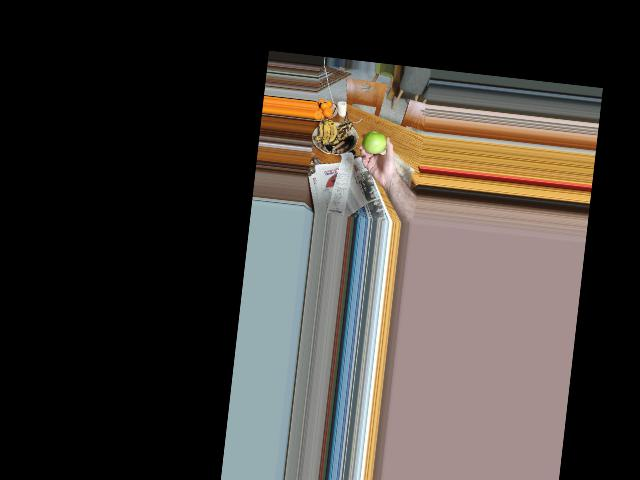apple: (362, 126, 390, 158)
